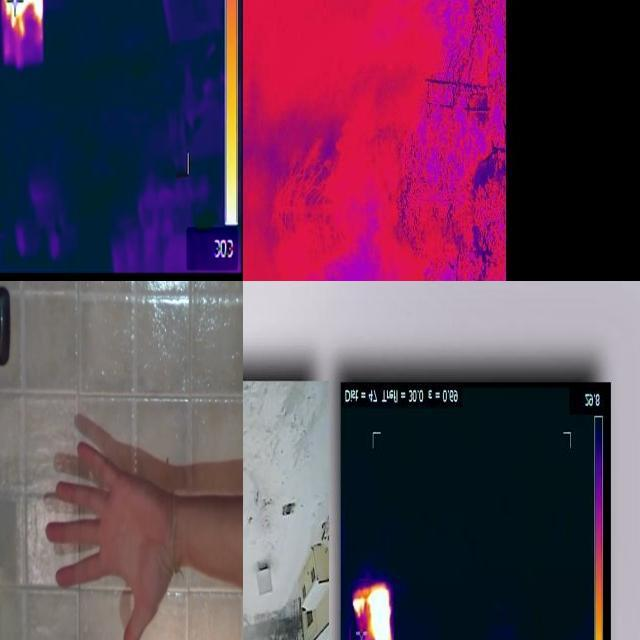fire: (1, 1, 44, 76), (351, 581, 394, 640)
